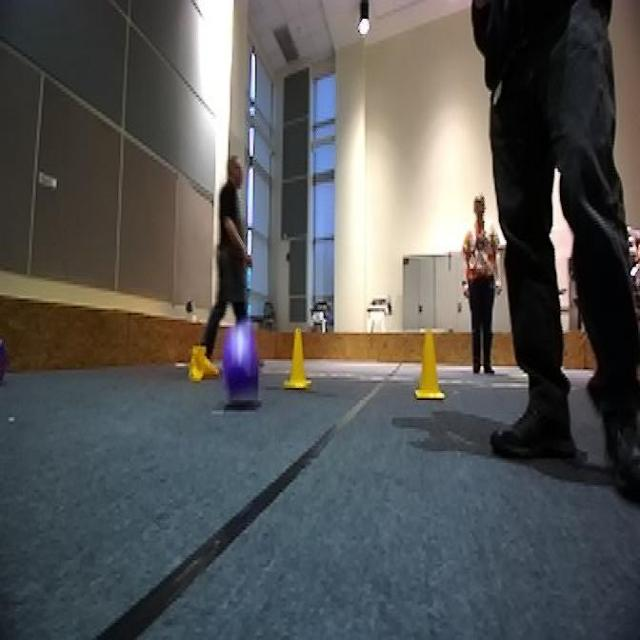frc_cone: (408, 329, 452, 400), (281, 328, 313, 386), (190, 351, 215, 381)
frc_cube: (217, 327, 265, 403), (0, 337, 10, 383)
